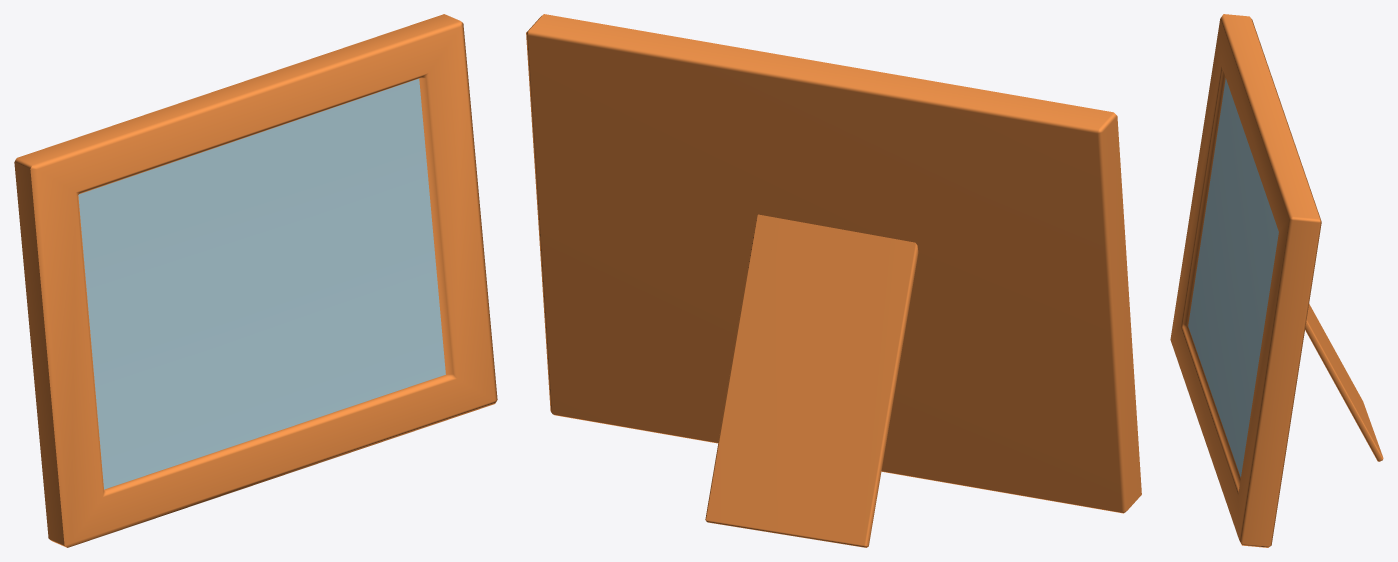
Rendered from Photoframe_2.glb.
The picture shows the model from 3 angles, left to right: view 1: azimuth 30°, elevation 25°; view 2: azimuth 150°, elevation 25°; view 3: azimuth 270°, elevation 25°; orthographic projection. The views are drawn at different scales.
Visible parts, largest first — view 1: Photoframe_2; view 2: Photoframe_2; view 3: Photoframe_2.
Part boxes in pixels (x1,y1,x2,y2): Photoframe_2: [14, 14, 497, 547]; Photoframe_2: [526, 14, 1141, 547]; Photoframe_2: [1170, 14, 1383, 547].
Size of the model in its own units: 0.257 by 0.1888 by 0.1102.
Materials: 1 (1 with a texture image).
